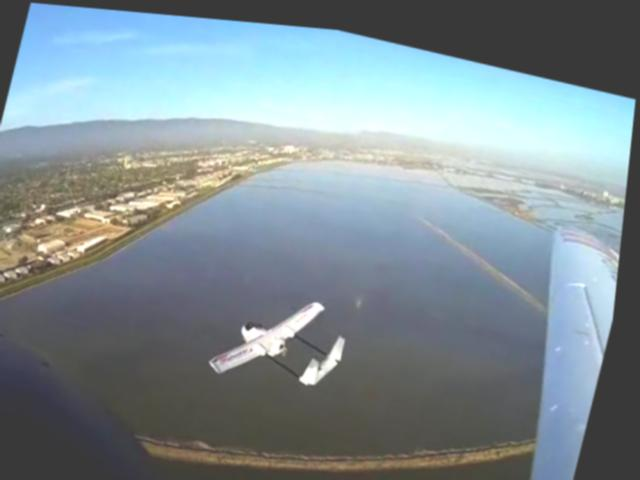iha: (205, 263, 371, 396)
